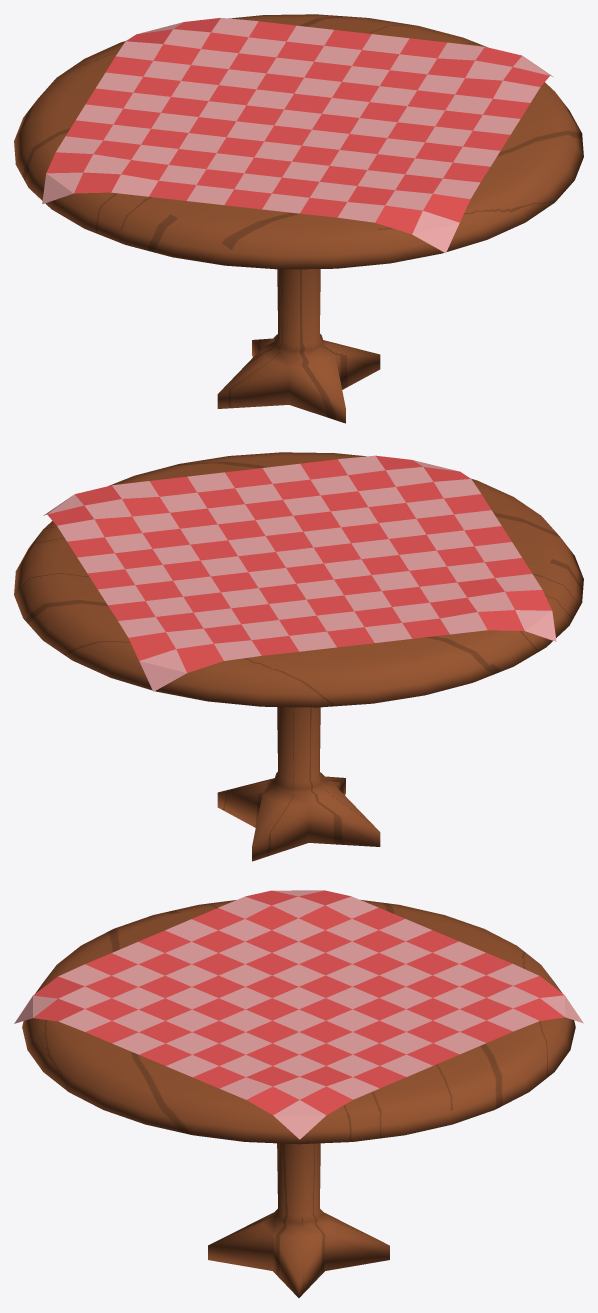
Rendered from Mesa CIRCULAR1.fbx.
3 views of the same model, one above another, from view 1: azimuth 30°, elevation 25°; view 2: azimuth 150°, elevation 25°; view 3: azimuth 270°, elevation 25° (orthographic). The views are drawn at different scales.
Visible parts, largest first — view 1: Plane.001, Circle.001, Cylinder.001; view 2: Plane.001, Circle.001, Cylinder.001; view 3: Plane.001, Circle.001, Cylinder.001.
Boxes of the visible parts, box(x1,y1,x2,y2) form: Plane.001: box(42, 18, 552, 253); Circle.001: box(14, 14, 583, 269); Cylinder.001: box(217, 269, 380, 423); Plane.001: box(43, 455, 556, 691); Circle.001: box(14, 452, 583, 707); Cylinder.001: box(217, 707, 380, 861); Plane.001: box(14, 890, 583, 1139); Circle.001: box(22, 899, 575, 1144); Cylinder.001: box(208, 1143, 389, 1297).
Size of the model in its own units: 276 by 140 by 274.
